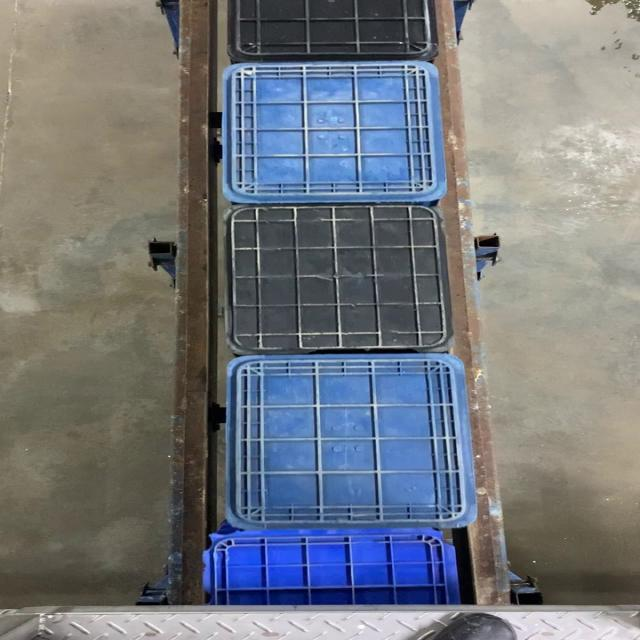Box: (223, 353, 479, 529), (221, 204, 463, 354), (221, 62, 447, 202)
